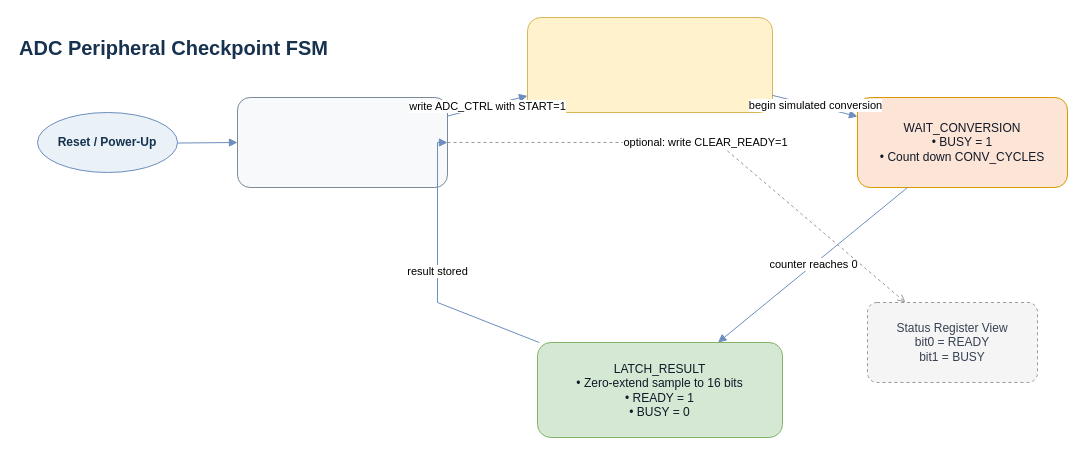
This 1085x455 diagram has some shape labels left out. The centre of each missing label's shape, as x and y in pixels:
IDLE • BUSY = 0 • Wait for ADC_CTRL.START: [342,142]
START_CONVERSION • Clear READY • Capture channel • Generate next sample (stub): [649,64]
